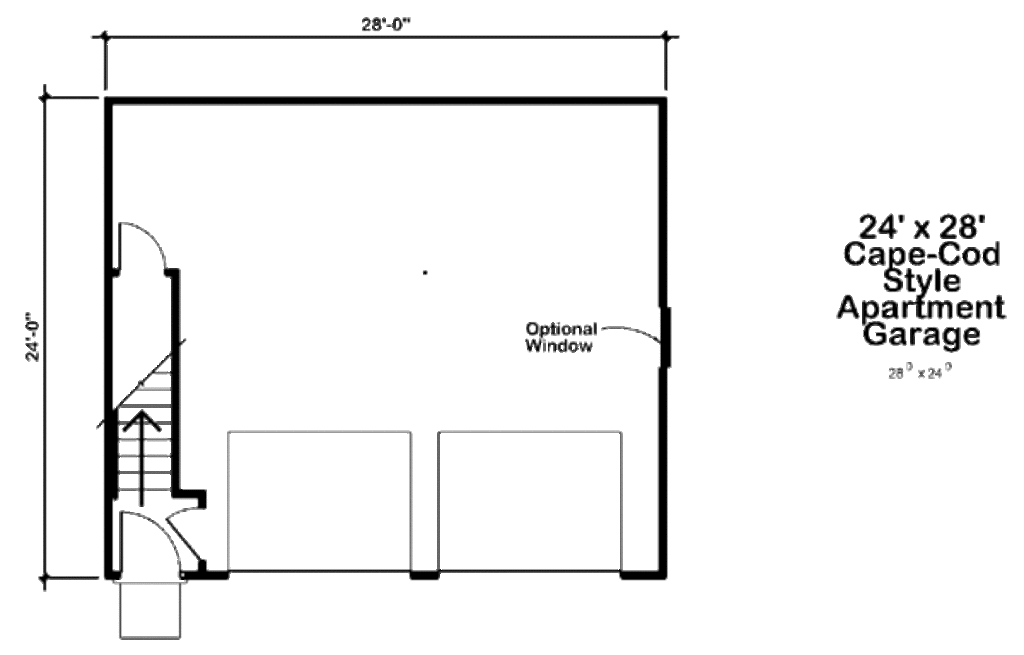door: (113, 507, 189, 583), (163, 505, 226, 570), (106, 213, 168, 271)
stairs: (114, 275, 189, 497)
